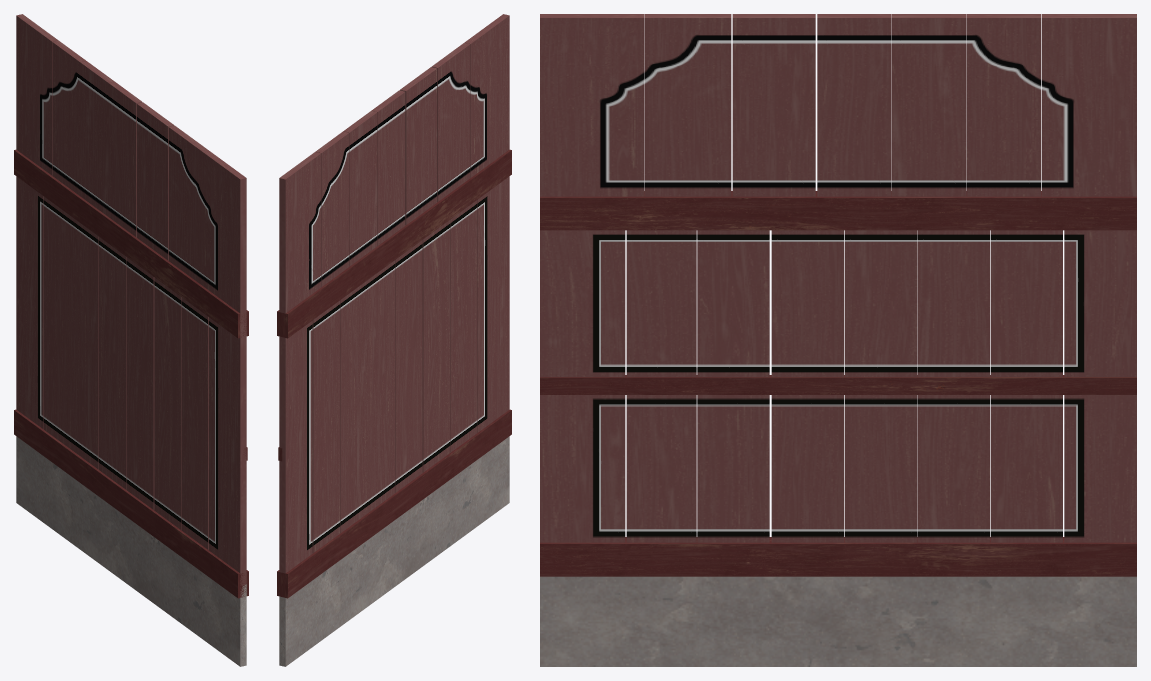
File: SM_Wall02d.fbx
3 views of the same model, side by side, from view 1: azimuth 30°, elevation 25°; view 2: azimuth 150°, elevation 25°; view 3: azimuth 270°, elevation 25° (orthographic). The views are drawn at different scales.
Parts seen in each view (by area): view 1: SM_Wall02d; view 2: SM_Wall02d; view 3: SM_Wall02d.
Boxes of the visible parts, bbox=[...] form: SM_Wall02d: bbox=[14, 14, 248, 666]; SM_Wall02d: bbox=[277, 14, 511, 666]; SM_Wall02d: bbox=[540, 14, 1136, 666].
Size of the model in its own units: 7 by 250 by 300.
3 materials, 3 textured.
